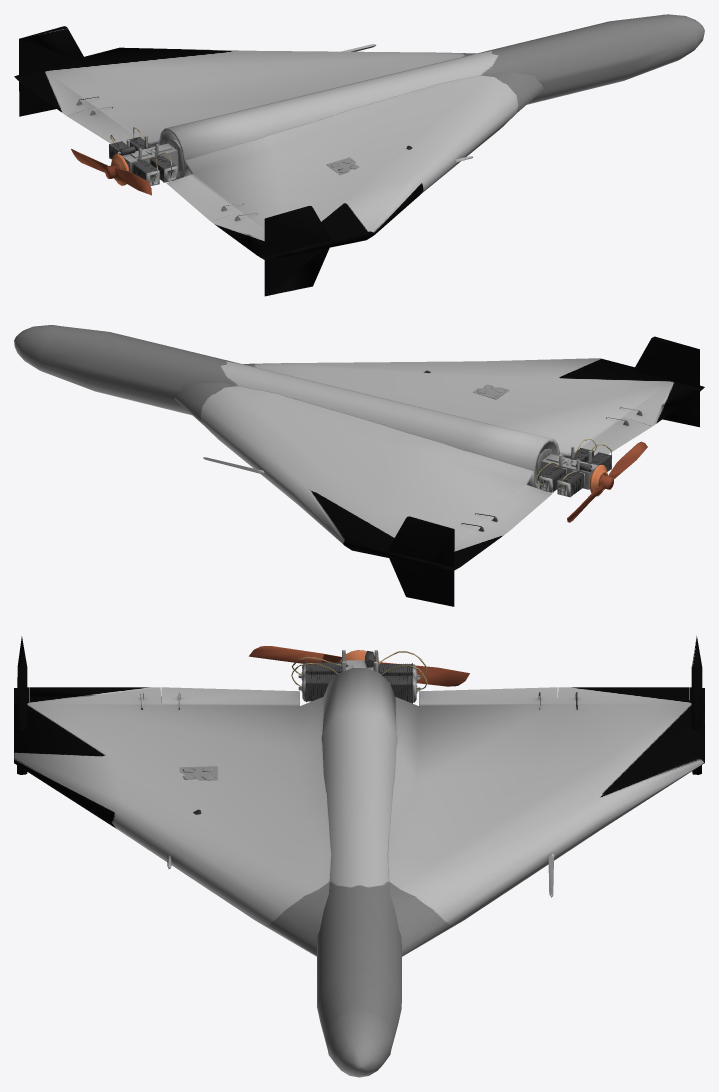
The model's file is shahed.glb.
3 renders of one model, top to bottom at view 1: azimuth 30°, elevation 25°; view 2: azimuth 150°, elevation 25°; view 3: azimuth 270°, elevation 25°, orthographic. The views are drawn at different scales.
Parts seen in each view (by area): view 1: g_shahed_hull, g_shahed_rotor; view 2: g_shahed_hull, g_shahed_rotor; view 3: g_shahed_hull, g_shahed_rotor.
Part boxes in pixels (<box>): g_shahed_hull: <box>14,14,704,296</box>; g_shahed_rotor: <box>71,149,151,195</box>; g_shahed_hull: <box>14,325,704,606</box>; g_shahed_rotor: <box>567,441,647,522</box>; g_shahed_hull: <box>14,636,704,1077</box>; g_shahed_rotor: <box>249,646,469,686</box>.
Bounding box in the file's own units: 3.58 × 0.4504 × 2.61.
2 materials, 2 textured.
